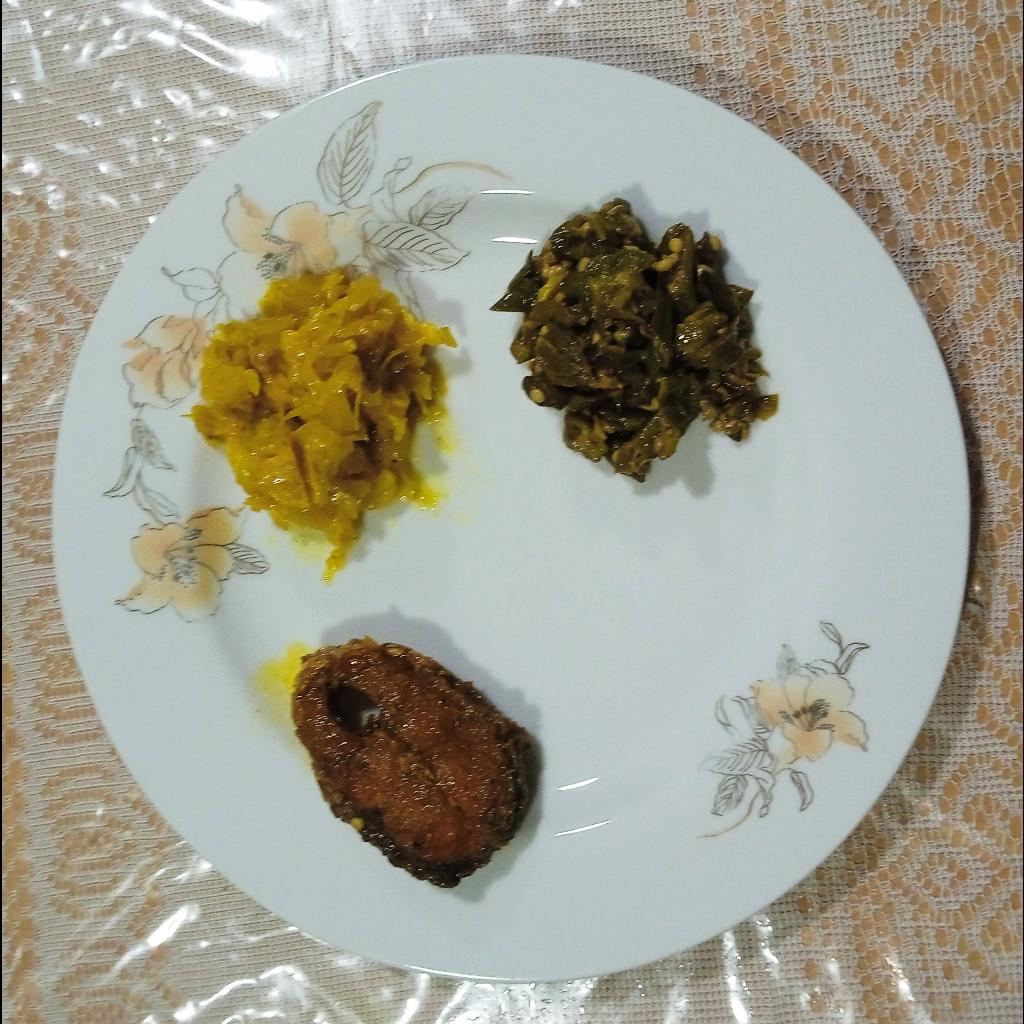cabbage: (190, 273, 451, 579)
fish: (291, 639, 536, 893)
okra: (488, 197, 777, 486)
